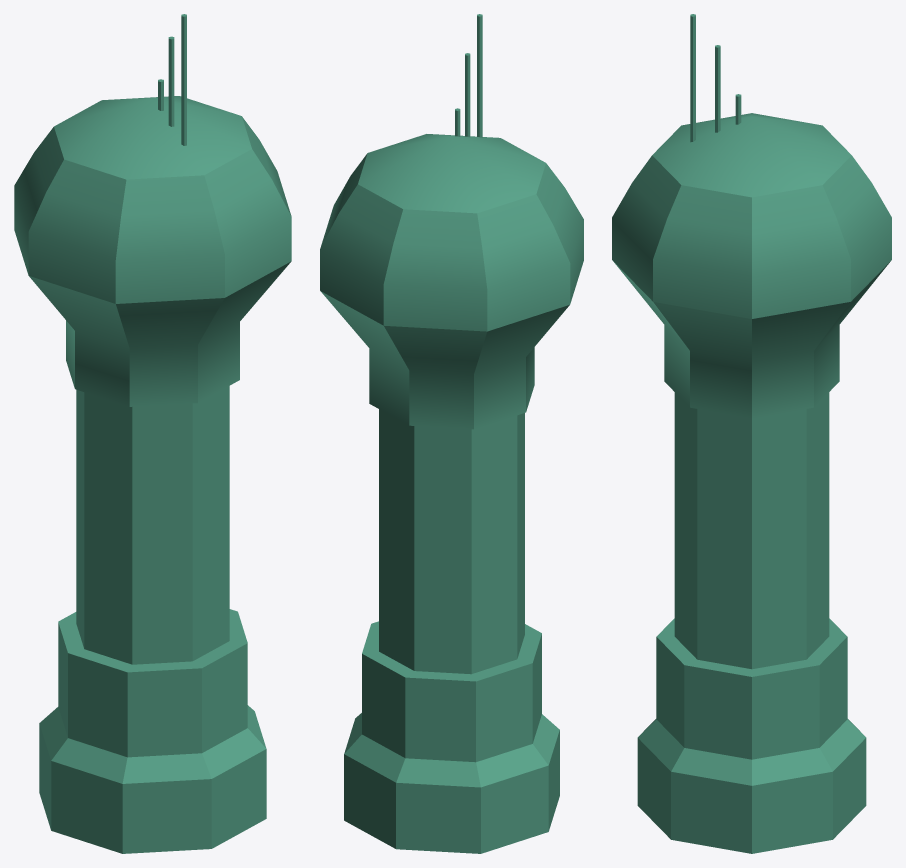
Rendered from far tower.fbx.
3 renders of one model, left to right at view 1: azimuth 30°, elevation 25°; view 2: azimuth 150°, elevation 25°; view 3: azimuth 270°, elevation 25°, orthographic. The views are drawn at different scales.
Visible parts, largest first — view 1: pCylinder4, pCylinder5, pCylinder6; view 2: pCylinder4, pCylinder5; view 3: pCylinder4, pCylinder5.
Boxes of the visible parts, x1=… form: pCylinder4: x1=14, y1=96, x2=291, y2=853; pCylinder5: x1=181, y1=14, x2=186, y2=145; pCylinder6: x1=168, y1=36, x2=174, y2=126; pCylinder4: x1=320, y1=134, x2=583, y2=853; pCylinder5: x1=477, y1=14, x2=482, y2=137; pCylinder4: x1=612, y1=113, x2=891, y2=853; pCylinder5: x1=690, y1=14, x2=695, y2=142.
Size of the model in its own units: 530 by 1653 by 530.
